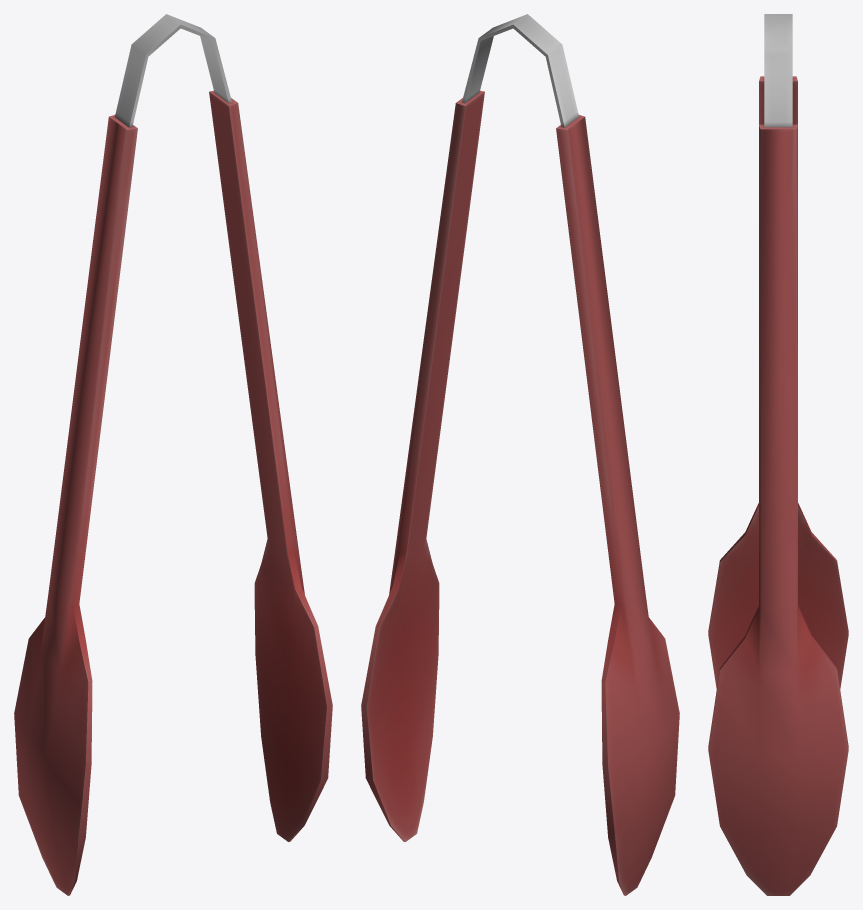
File: KR_Tongs_01_01.fbx
3 renders of one model, left to right at view 1: azimuth 30°, elevation 25°; view 2: azimuth 150°, elevation 25°; view 3: azimuth 270°, elevation 25°, orthographic.
Parts seen in each view (by area): view 1: kr_tongs_01_01; view 2: kr_tongs_01_01; view 3: kr_tongs_01_01.
Boxes of the visible parts, x1,y1,x2,y2 form: kr_tongs_01_01: [14, 14, 332, 895]; kr_tongs_01_01: [361, 14, 679, 895]; kr_tongs_01_01: [708, 14, 848, 895].
Size of the model in its own units: 8.03 by 23.86 by 3.67.
